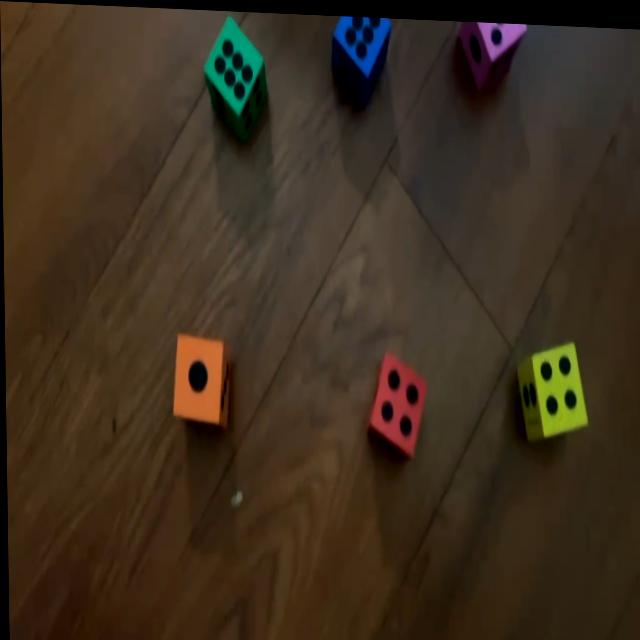blue_block: (332, 12, 393, 105)
red_block: (364, 347, 426, 457)
